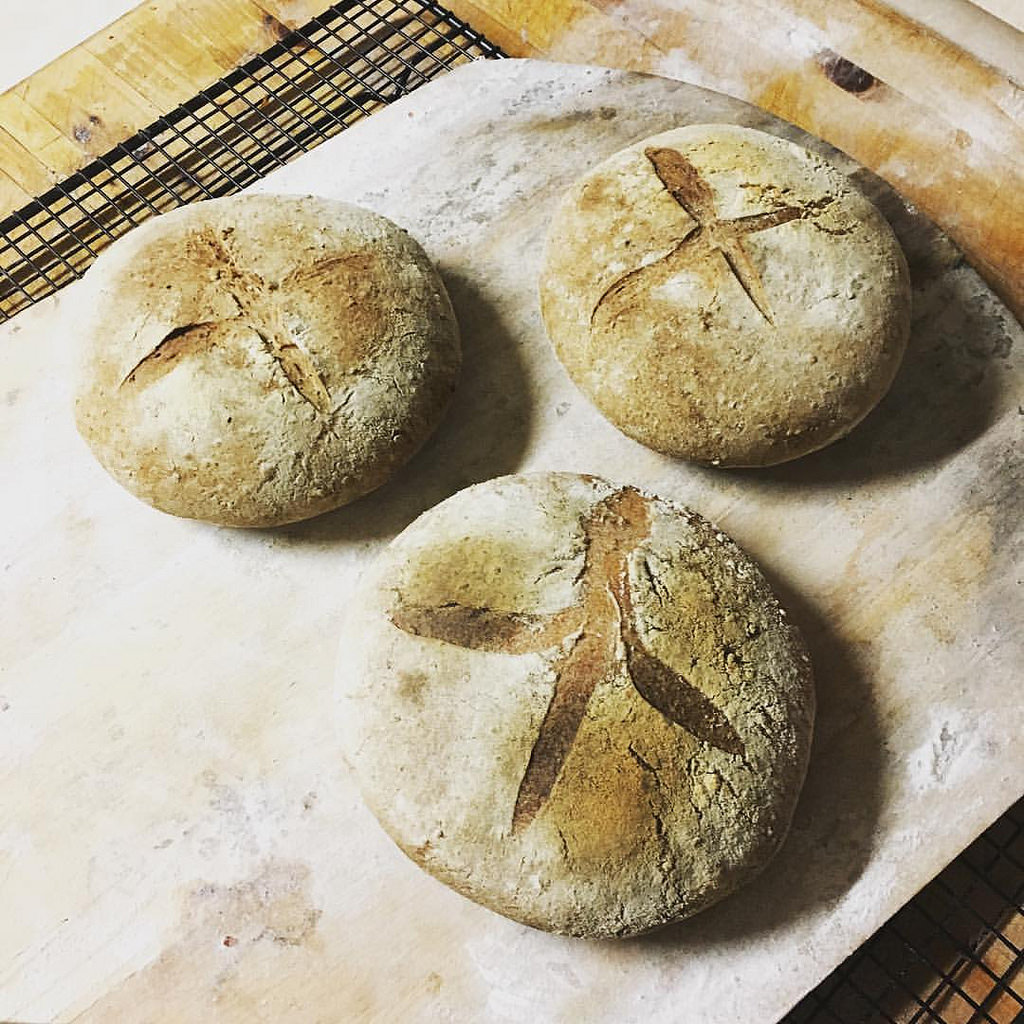slice of bread: (352, 499, 786, 866), (552, 130, 911, 430), (111, 189, 440, 478)
